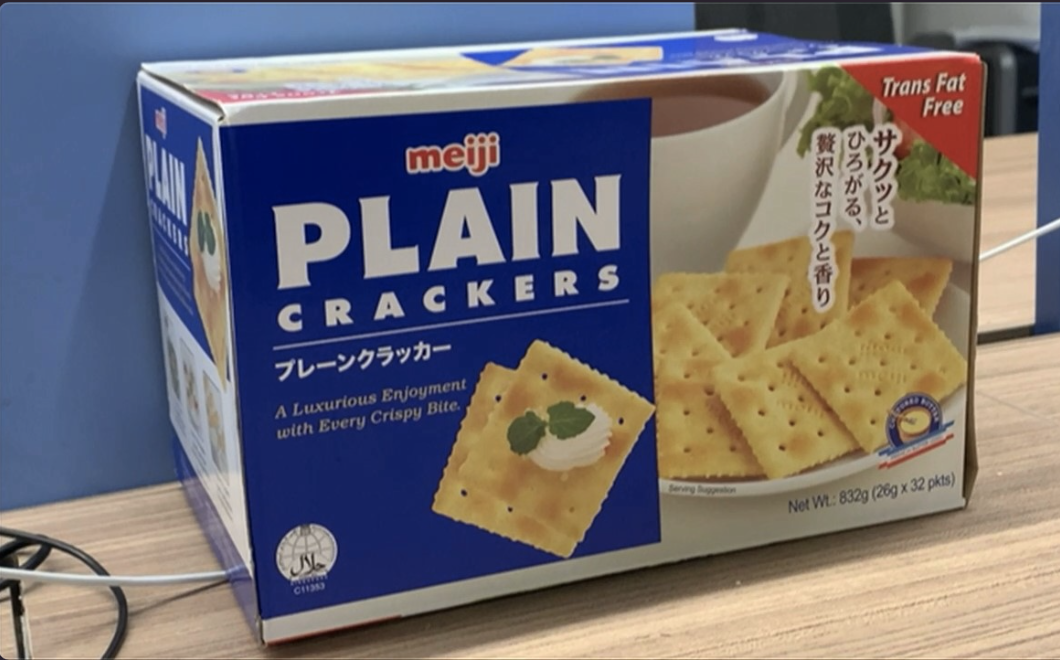crackers_550g: (258, 125, 951, 585)
